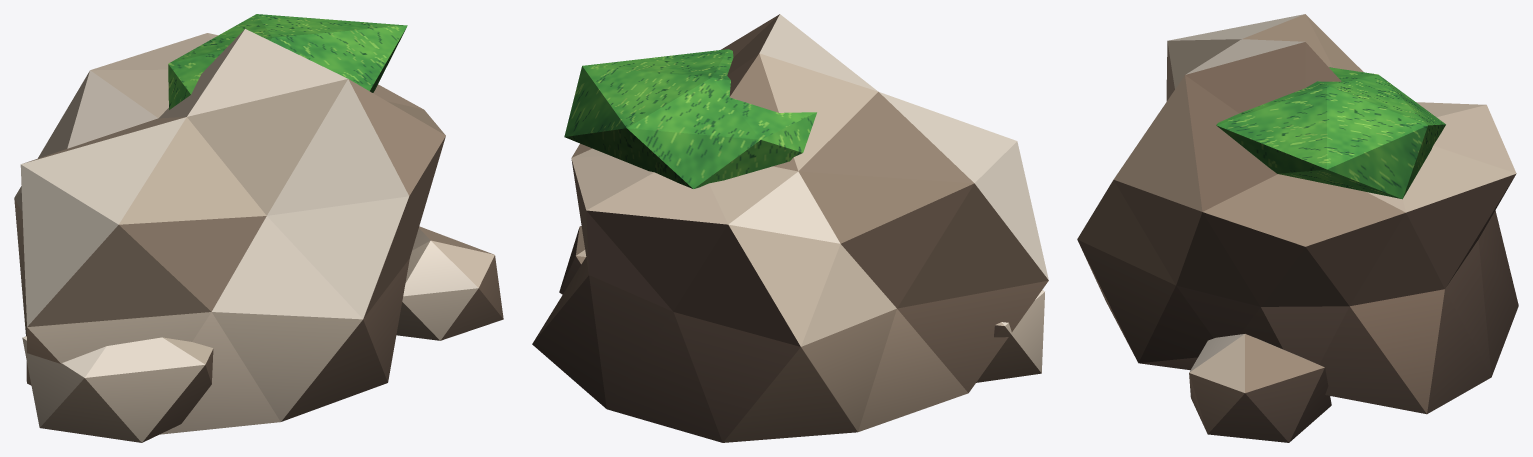
File: boulder_large.glb
3 renders of one model, left to right at view 1: azimuth 30°, elevation 25°; view 2: azimuth 150°, elevation 25°; view 3: azimuth 270°, elevation 25°, orthographic. The views are drawn at different scales.
Parts seen in each view (by area): view 1: boulder_large; view 2: boulder_large; view 3: boulder_large.
Boxes of the visible parts, x1,y1,x2,y2 form: boulder_large: (14, 14, 503, 442); boulder_large: (532, 14, 1048, 442); boulder_large: (1077, 14, 1518, 442).
Size of the model in its own units: 1.24 by 0.7883 by 1.02.
3 materials, 3 textured.
